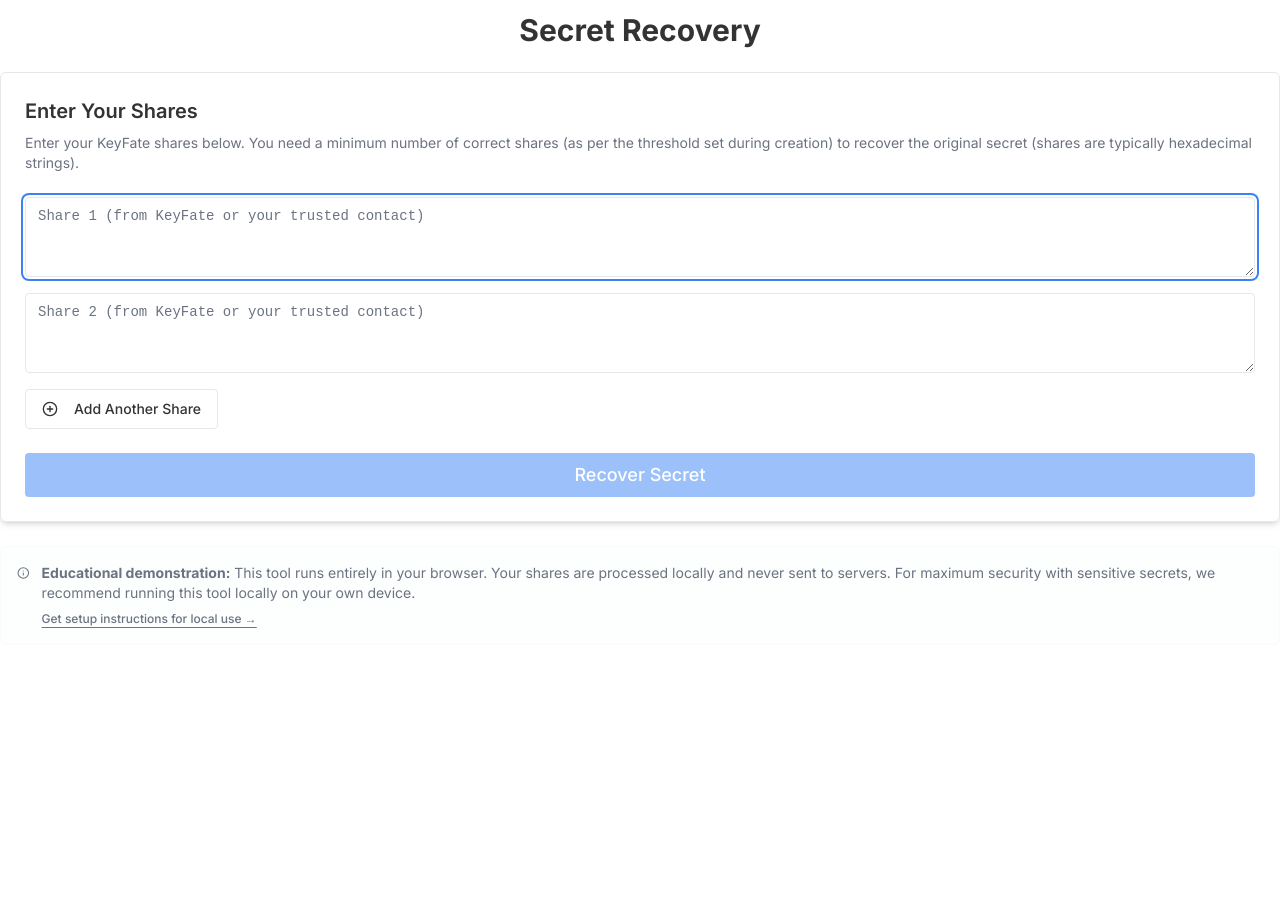
SssDecryptor › should handle successful secret recovery
In the text box with placeholder "Share 1 (from KeyFate or your trusted contact)": (640, 237) [25,197,1255,277], type "abc123"
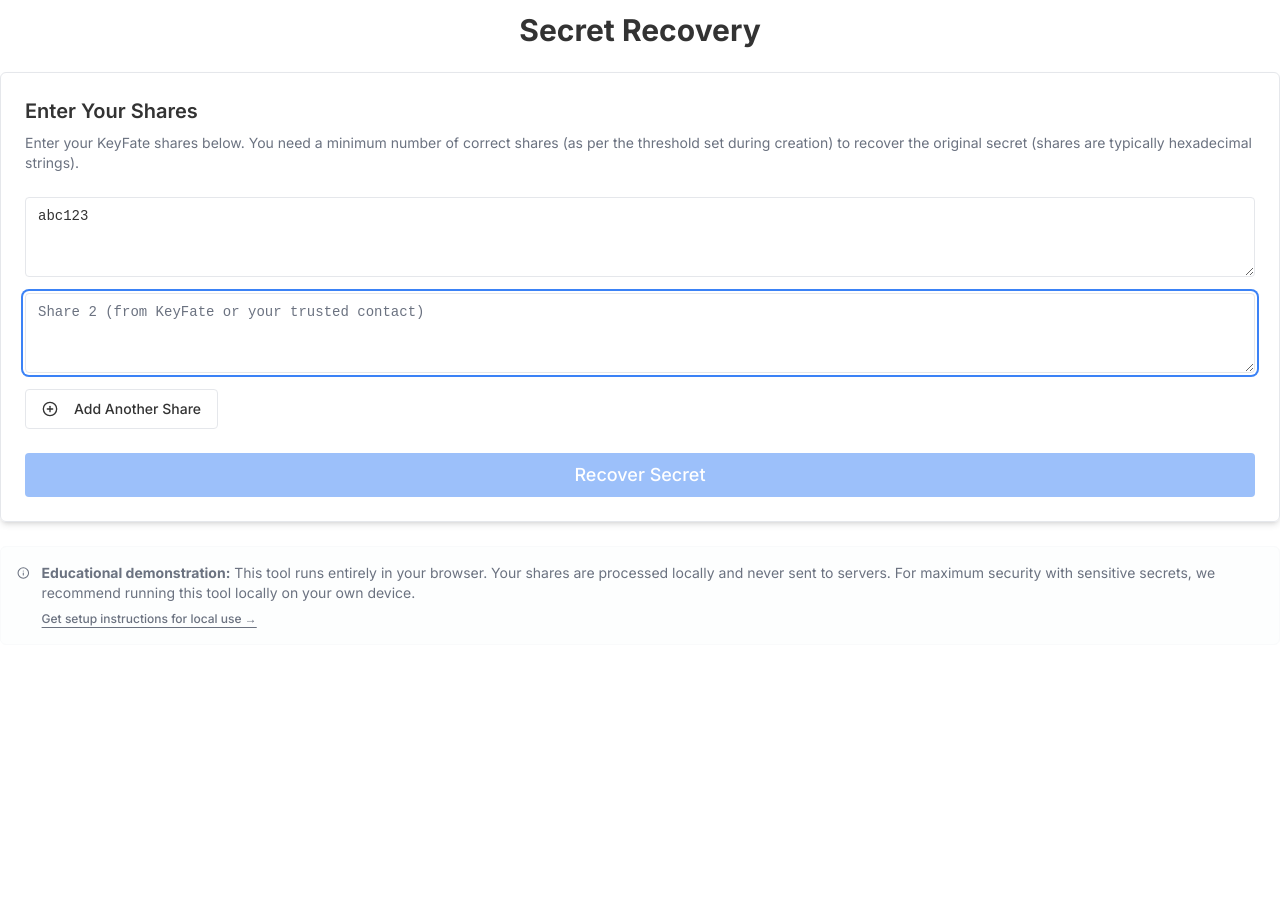
In the text box with placeholder "Share 2 (from KeyFate or your trusted contact)": (640, 333) [25,293,1255,373], type "def456"
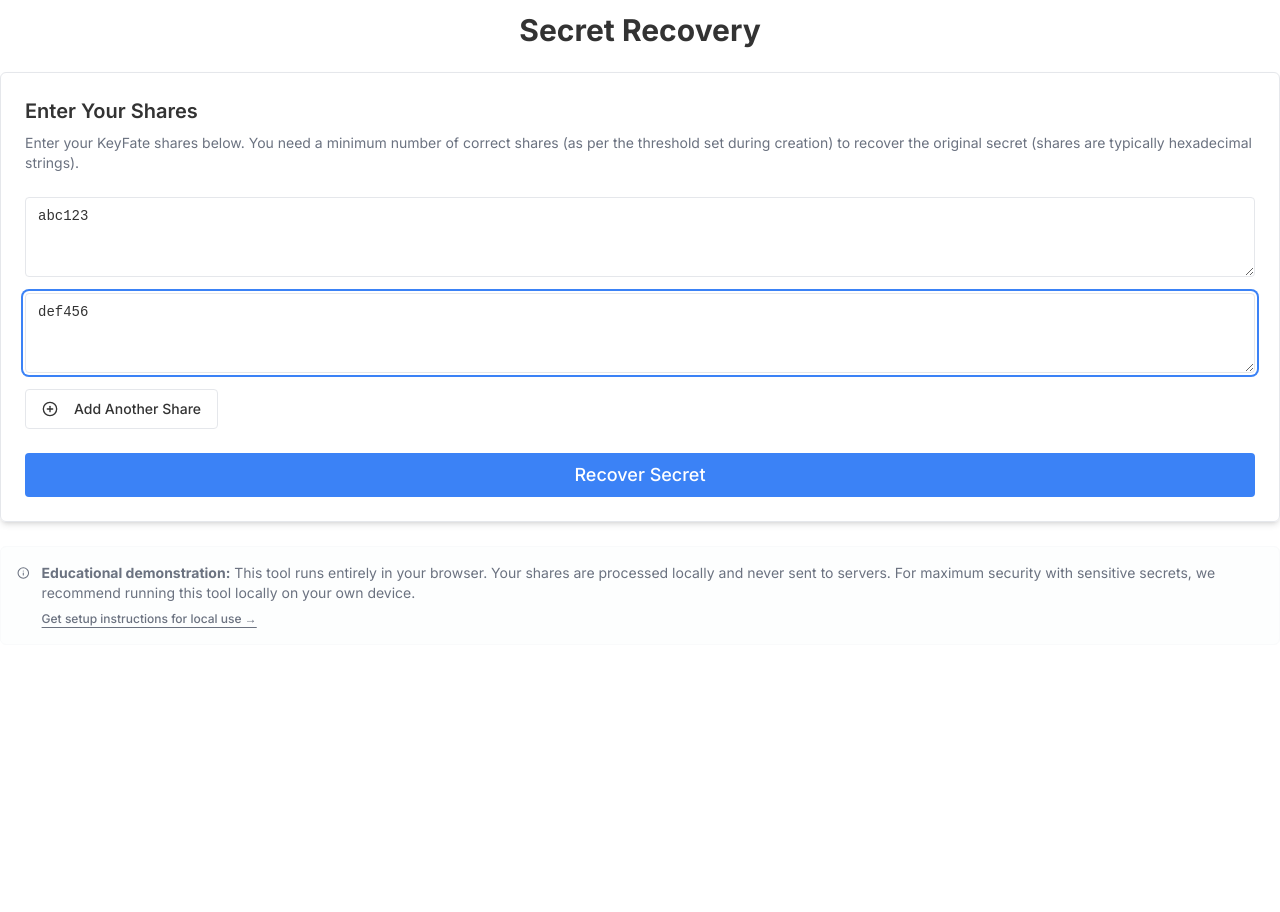
Click the button "Recover Secret": (640, 475) [25,453,1255,497]
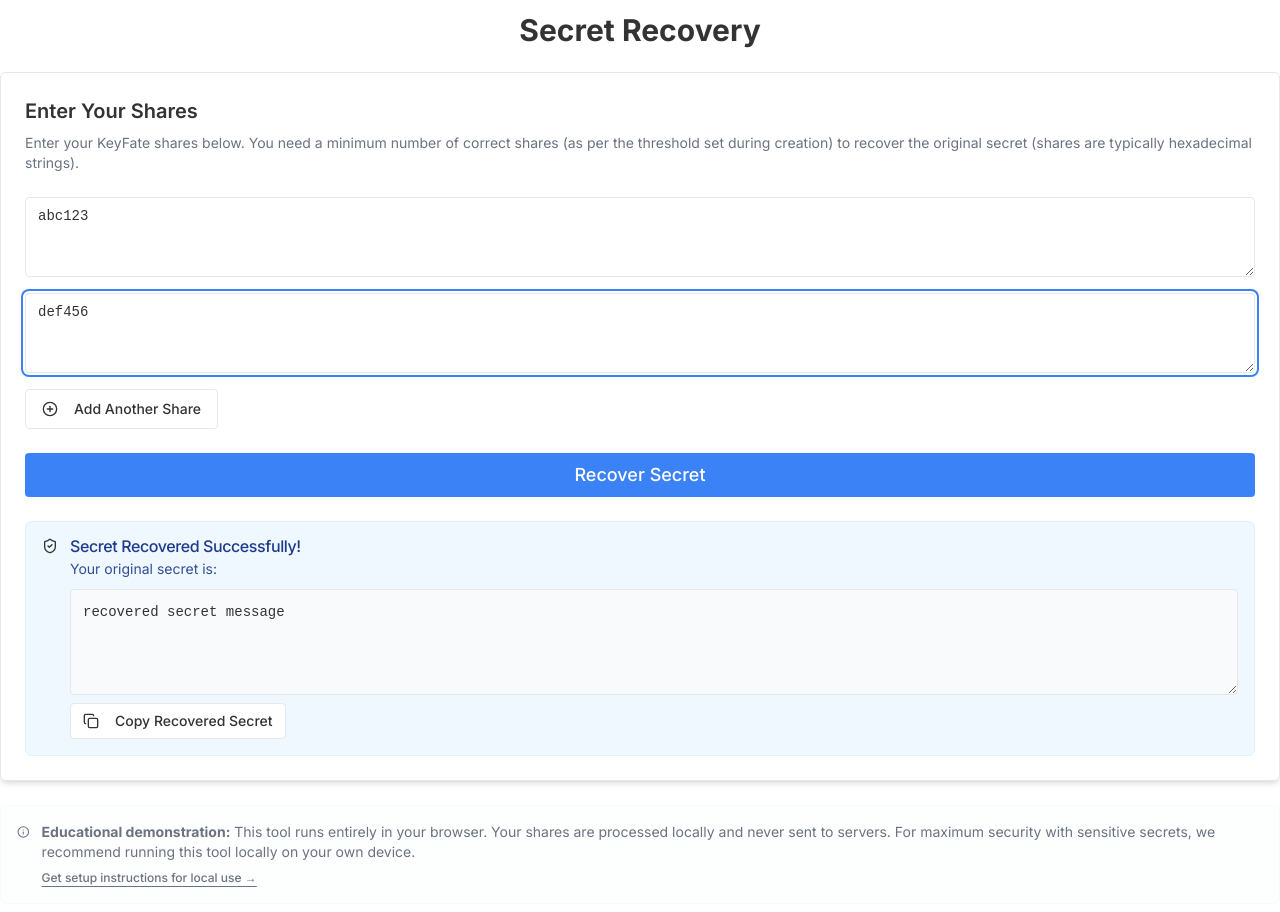
Now the heading "Secret Recovered Successfully!" is shown, box [70,536,301,556]
Now the text "Your original secret is:" is shown, box [70,560,217,577]
Now the text box showing "recovered secret message" below "Your original secret is:" is shown, box [70,589,1238,695]
